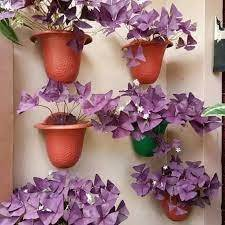butterfly flower: (142, 164, 202, 202), (167, 11, 195, 52), (84, 90, 121, 117), (171, 98, 198, 120), (19, 88, 40, 115)
